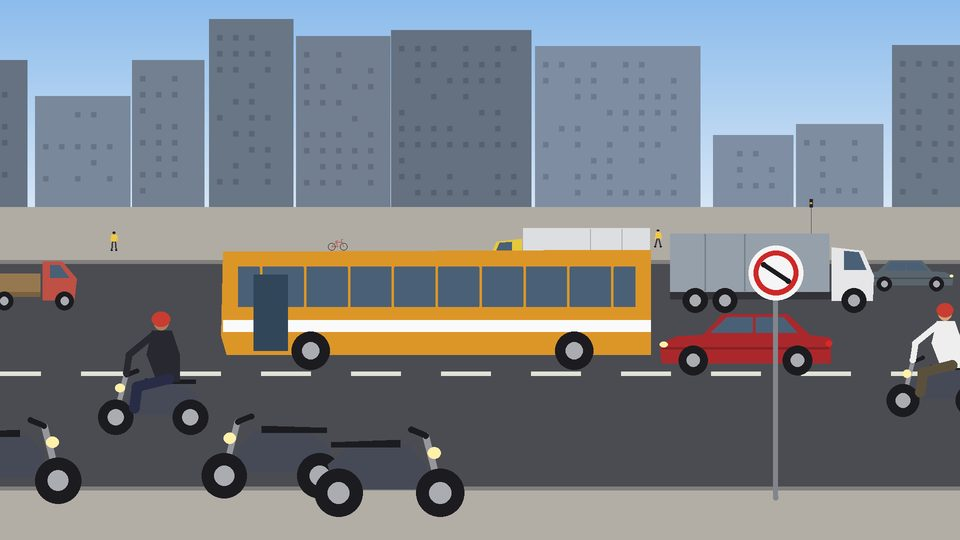Bus: (221, 250, 651, 370)
Car: (660, 314, 831, 376), (873, 261, 953, 292)
Motorcycle: (315, 427, 465, 517), (202, 414, 334, 499), (0, 417, 82, 504)
Motorcyclist: (99, 312, 209, 435), (887, 303, 960, 417)
Other vehicle: (43, 262, 77, 311)
Sign: (749, 246, 804, 301)
Truck: (670, 234, 874, 313), (523, 228, 650, 251)
